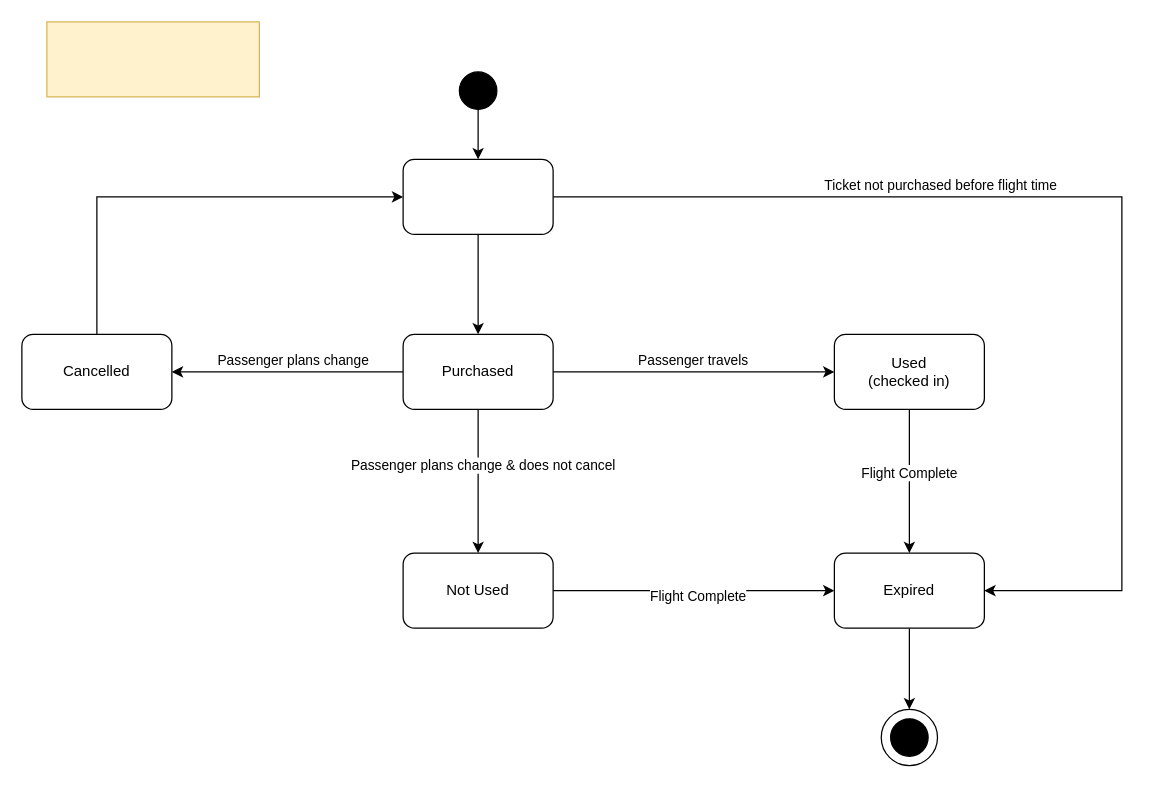
Some shapes in this 1154 by 788 pixel diagram are drawn without their labels. The centre of each missing label's shape, as x and y in pixels:
"Available" goes at point (477, 196).
"State Transition Diagram for Ticket Object" goes at point (152, 59).
